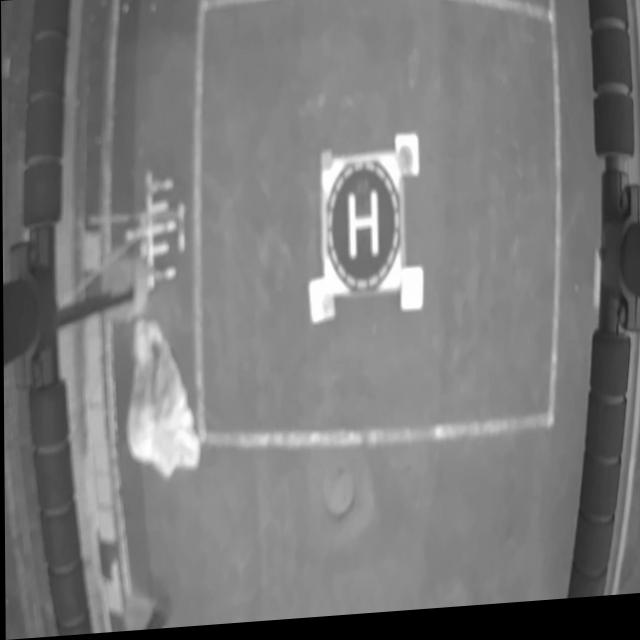Helipad: (346, 194, 377, 263)
